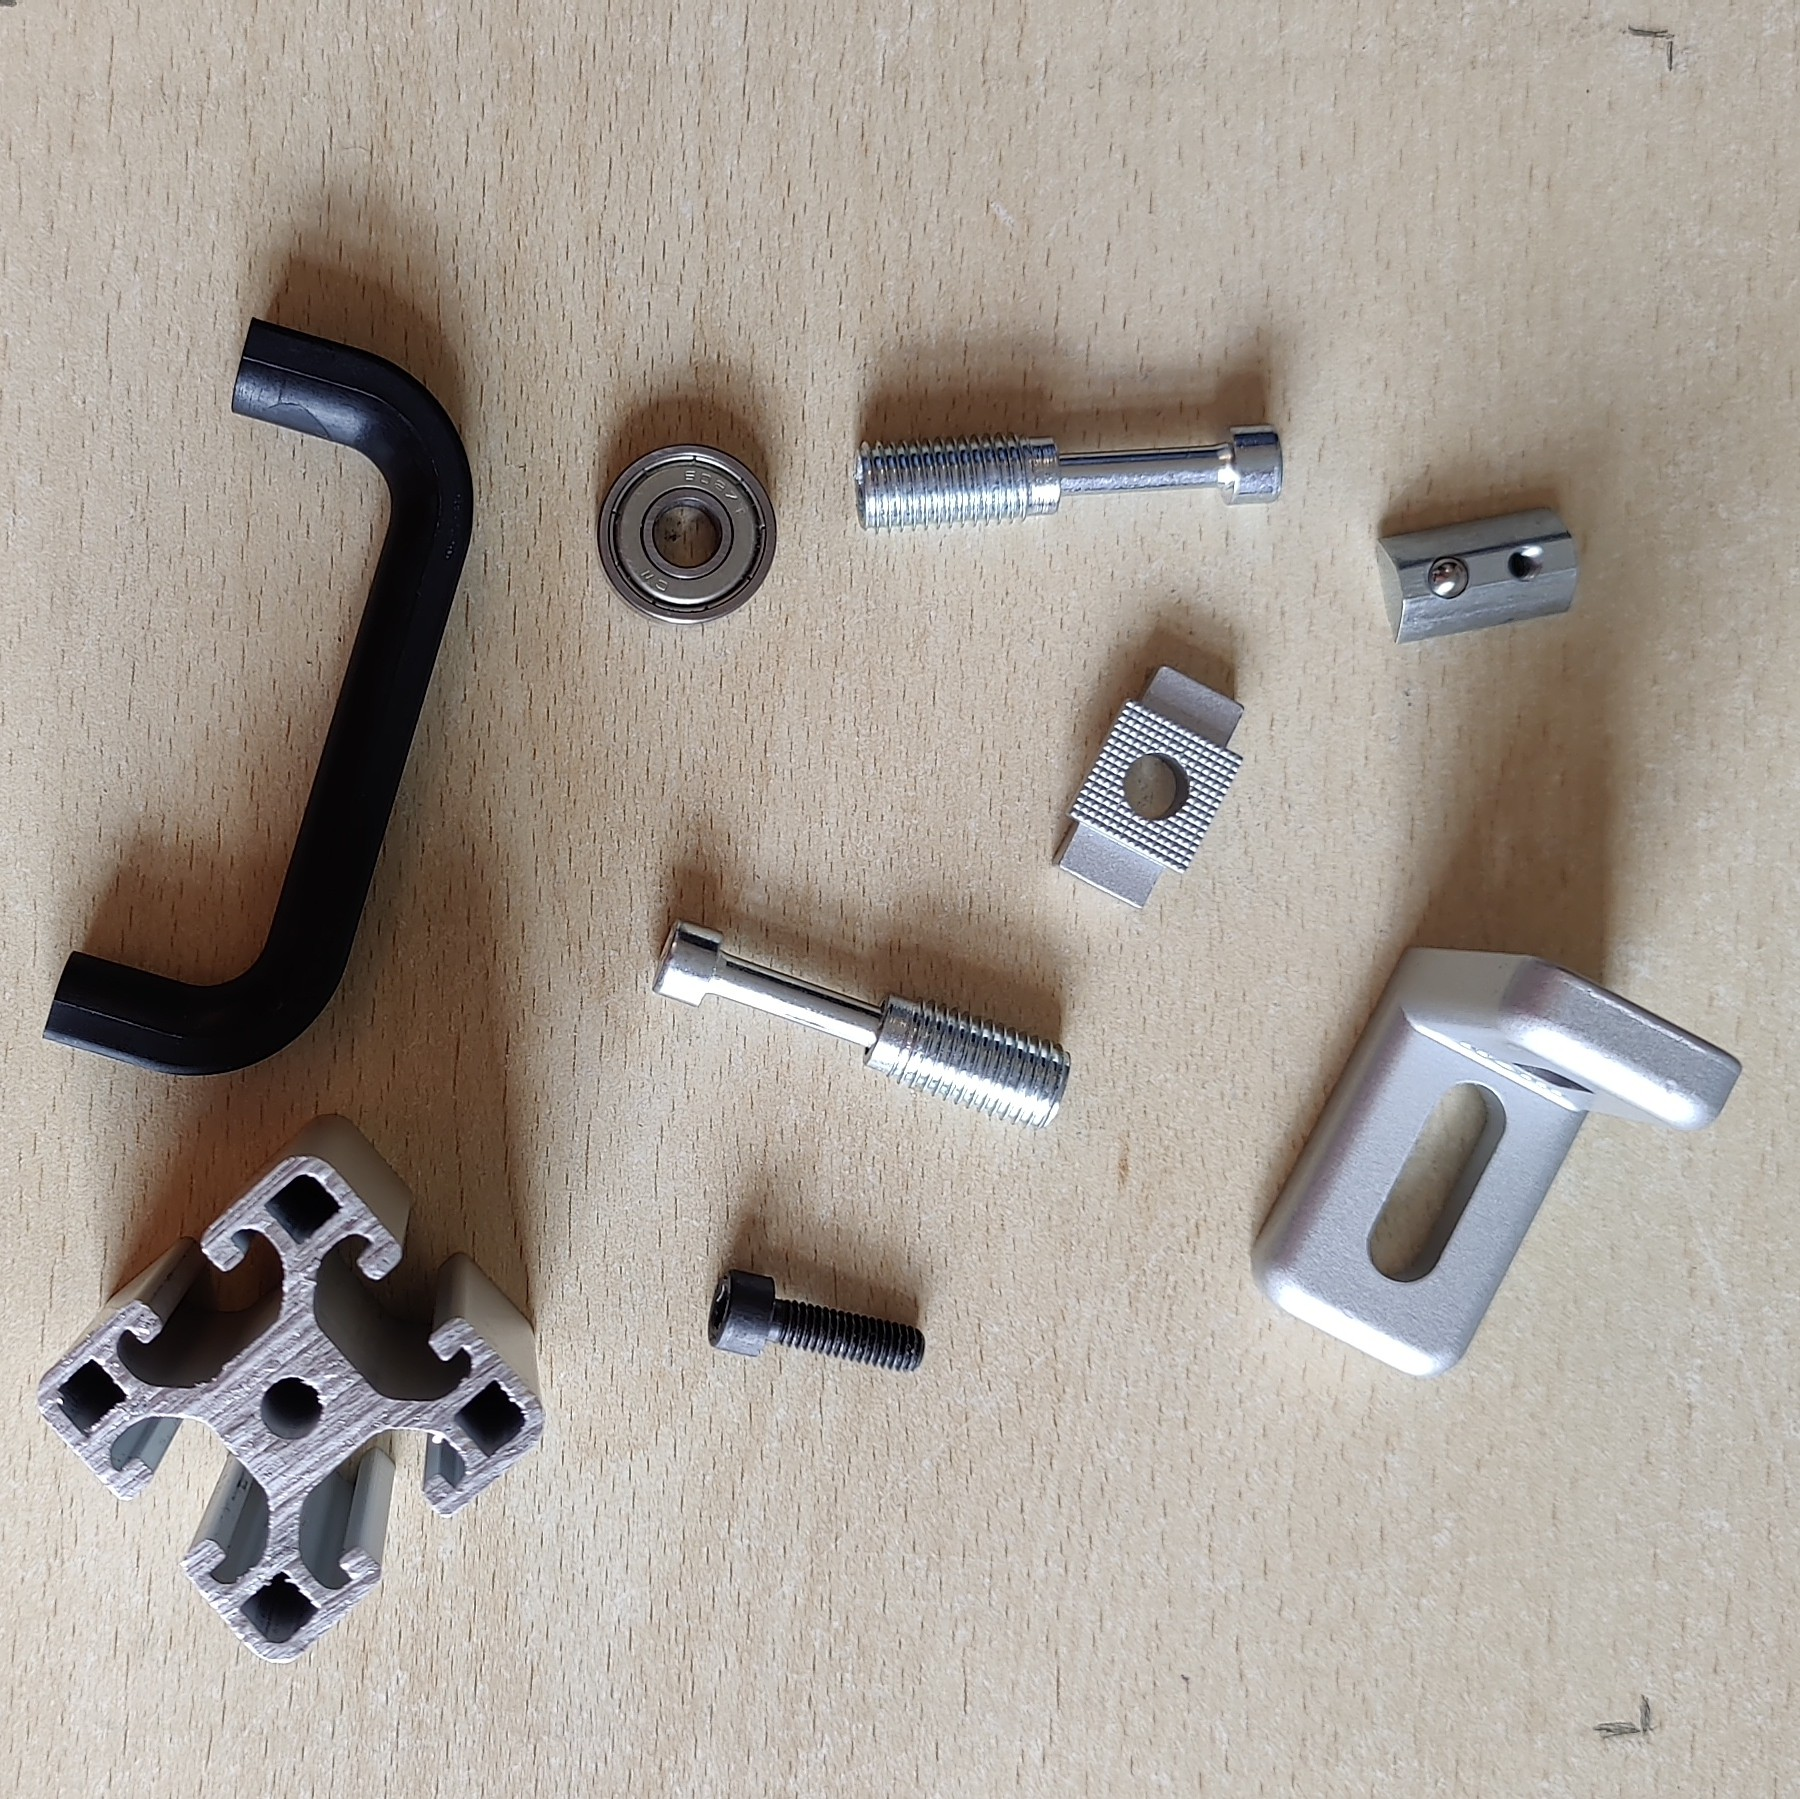Aluminium Extension: (31, 1110, 547, 1667)
Ball Bearing: (596, 442, 779, 629)
Multiwinkel: (1248, 941, 1746, 1381)
Pull Handle: (40, 310, 478, 1079)
Shoulder Socket Head Cap Screw: (647, 921, 1074, 1133), (851, 418, 1286, 537)
Socket Head Cap Screw: (703, 1269, 927, 1372)
T Nut Square: (1047, 657, 1248, 914)
T Spring Nut: (1372, 502, 1581, 647)
